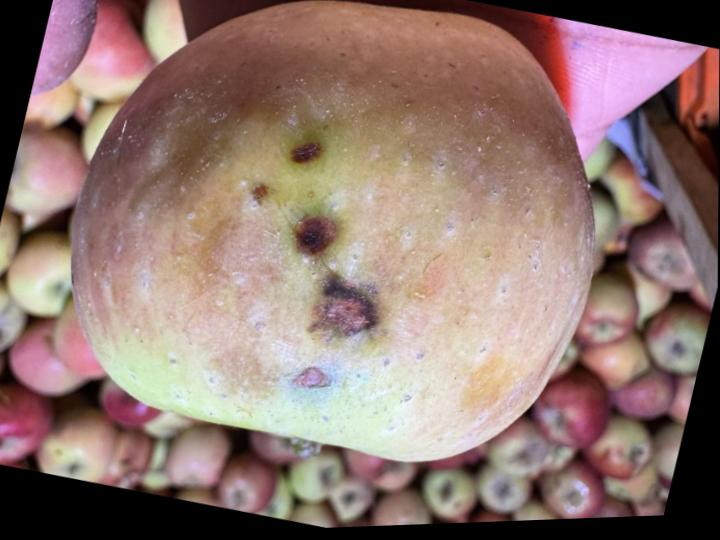apple: (70, 2, 593, 461)
surface_damage: (245, 140, 387, 393)
